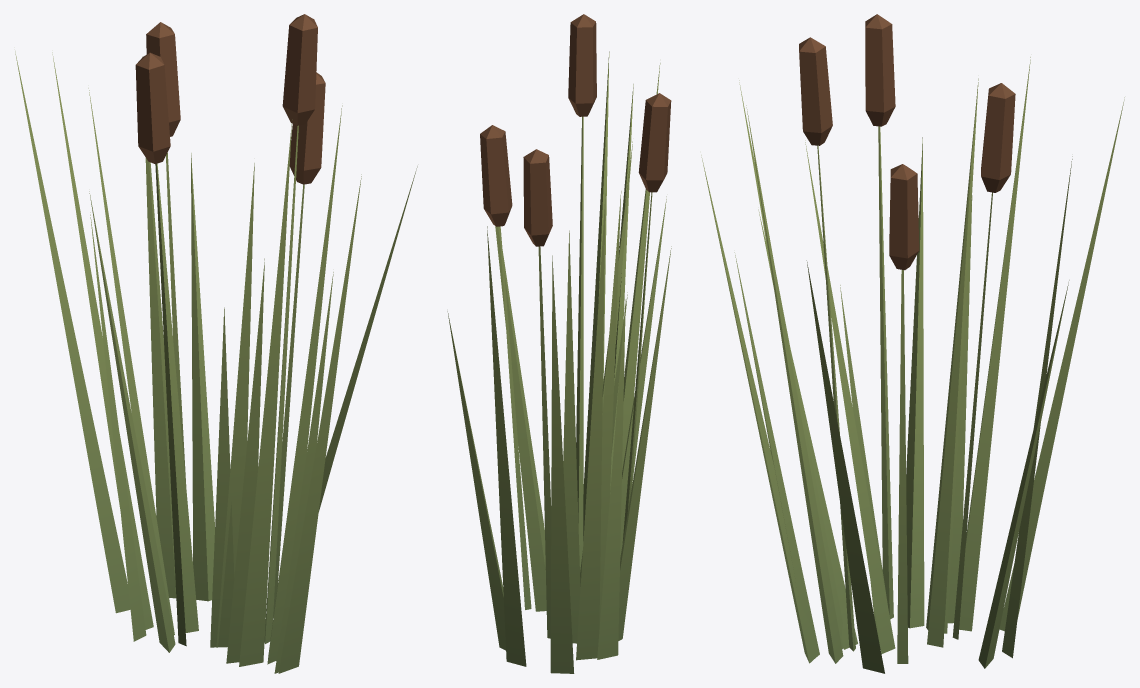
File: reeds.glb
3 views of the same model, side by side, from view 1: azimuth 30°, elevation 25°; view 2: azimuth 150°, elevation 25°; view 3: azimuth 270°, elevation 25° (orthographic). The views are drawn at different scales.
Visible parts, largest first — view 1: reeds; view 2: reeds; view 3: reeds.
Boxes of the visible parts, x1,y1,x2,y2 form: reeds: [15, 14, 417, 673]; reeds: [447, 14, 671, 673]; reeds: [701, 14, 1124, 673].
Size of the model in its own units: 0.8157 by 1.88 by 1.15.
